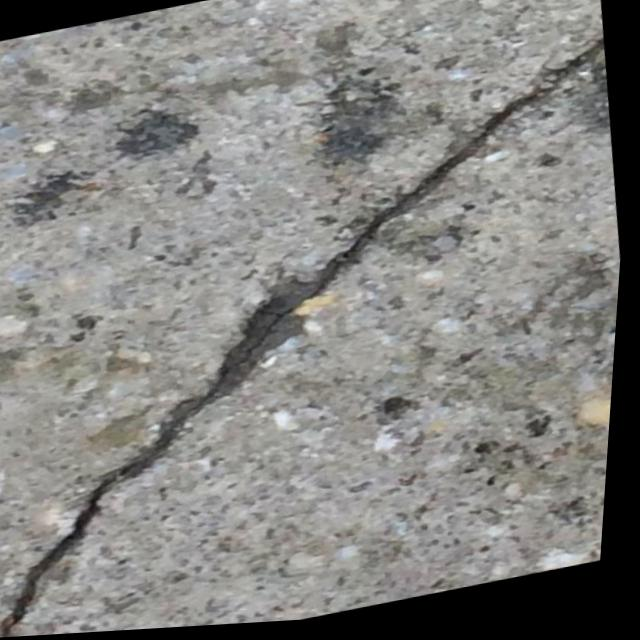Crack: (0, 35, 637, 640)
